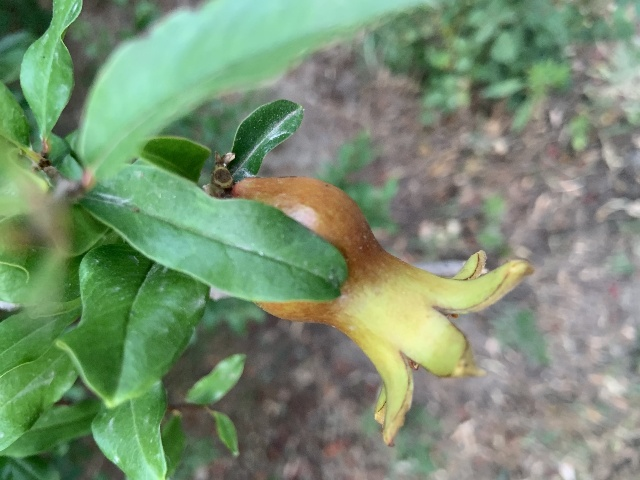early-fruit: (241, 175, 526, 446)
